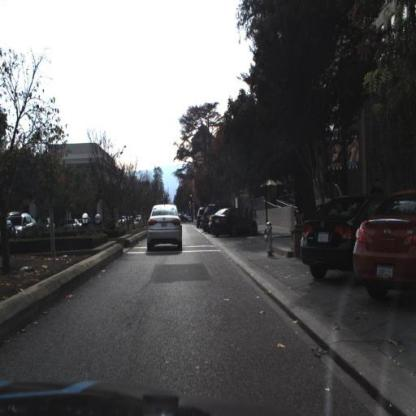car: (354, 190, 416, 300), (300, 192, 359, 285), (142, 198, 184, 259), (210, 207, 259, 236), (210, 212, 248, 235), (6, 212, 39, 238)
